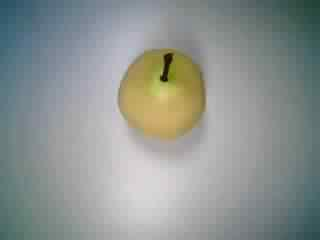pear: (108, 42, 218, 148)
